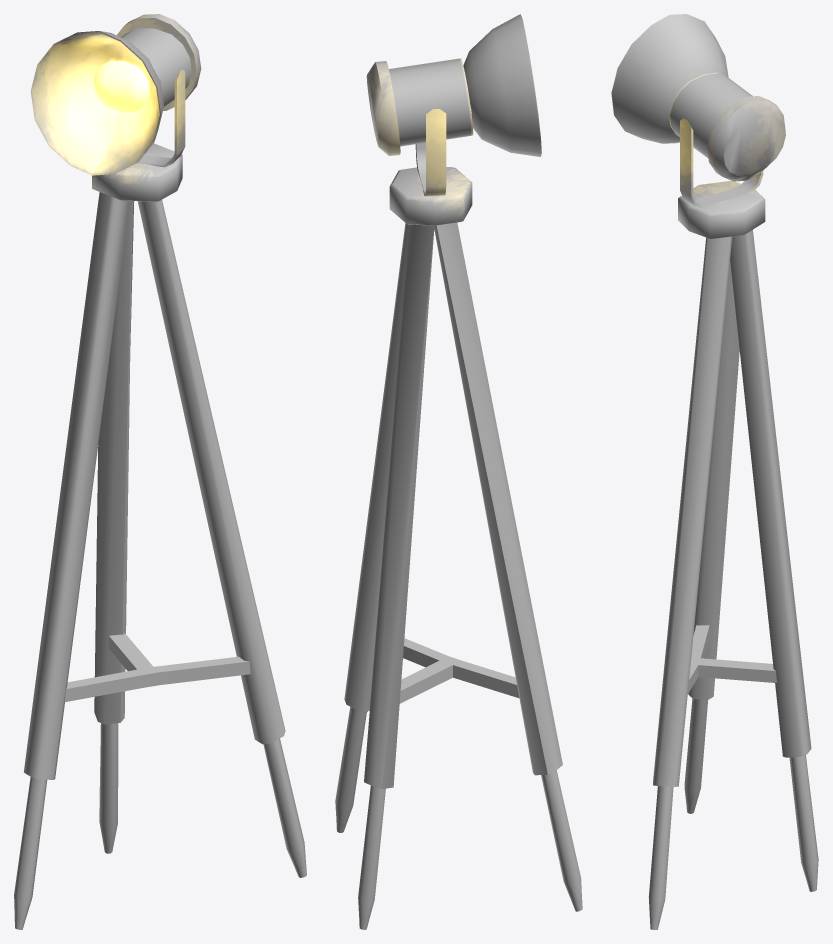
File: Lampe_puzzel.fbx
3 renders of one model, left to right at view 1: azimuth 30°, elevation 25°; view 2: azimuth 150°, elevation 25°; view 3: azimuth 270°, elevation 25°, orthographic. The views are drawn at different scales.
Parts seen in each view (by area): view 1: Cylinder.007, Plane.042, Plane.040; view 2: Cylinder.007, Plane.042, Plane.040; view 3: Cylinder.007, Plane.042, Plane.040.
Boxes of the visible parts, box(x1,y1,x2,y2) form: Cylinder.007: box(14, 143, 306, 929); Plane.042: box(30, 14, 201, 175); Plane.040: box(138, 69, 185, 167); Cylinder.007: box(335, 167, 582, 929); Plane.042: box(366, 14, 541, 156); Plane.040: box(415, 109, 446, 196); Cylinder.007: box(648, 180, 818, 929); Plane.042: box(611, 14, 785, 181); Plane.040: box(680, 118, 763, 207).
Size of the model in its own units: 0.4224 by 1.34 by 0.3008.
